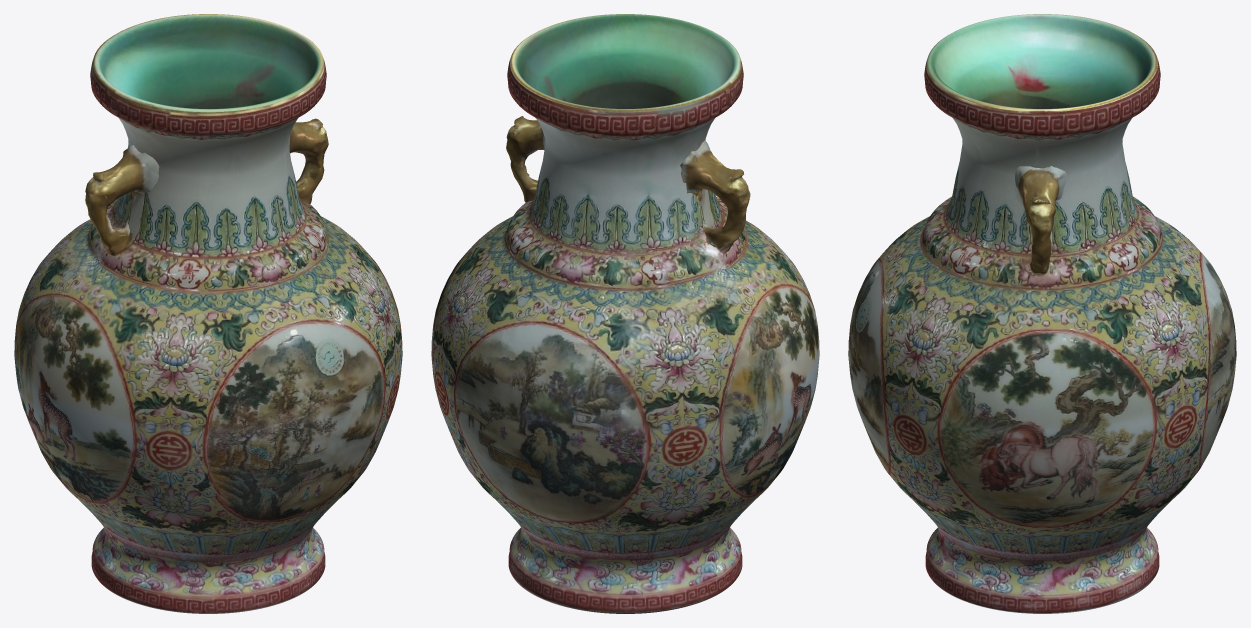
The model's file is fencaici.glb.
3 views of the same model, side by side, from view 1: azimuth 30°, elevation 25°; view 2: azimuth 150°, elevation 25°; view 3: azimuth 270°, elevation 25° (orthographic).
Parts seen in each view (by area): view 1: 平面.003; view 2: 平面.003; view 3: 平面.003.
Part boxes in pixels (x1,y1,x2,y2): 平面.003: [14, 14, 402, 613]; 平面.003: [431, 14, 819, 613]; 平面.003: [848, 14, 1236, 613].
Bounding box in the file's own units: 8.73 × 12.53 × 8.73.
Materials: 1 (1 with a texture image).
